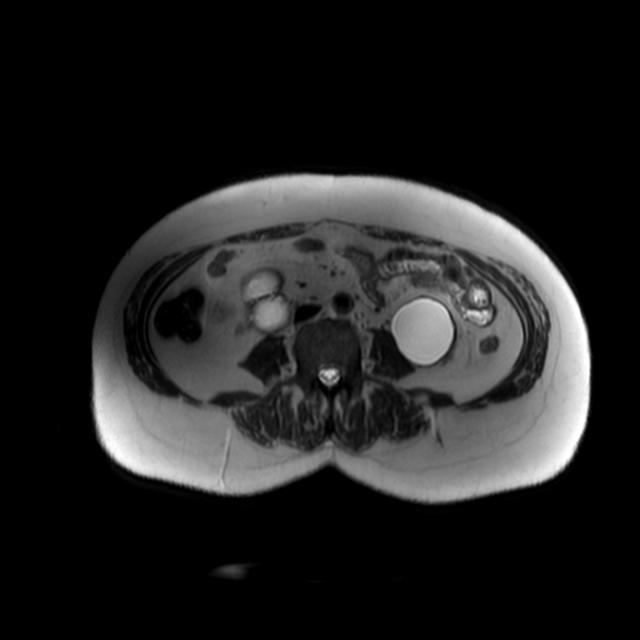sag: (240, 268, 296, 332)
sol: (392, 294, 455, 365)
